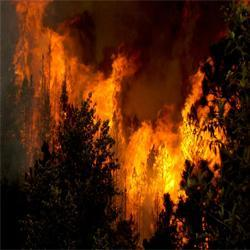fire: (129, 133, 195, 199), (45, 40, 76, 85), (87, 79, 121, 118)
